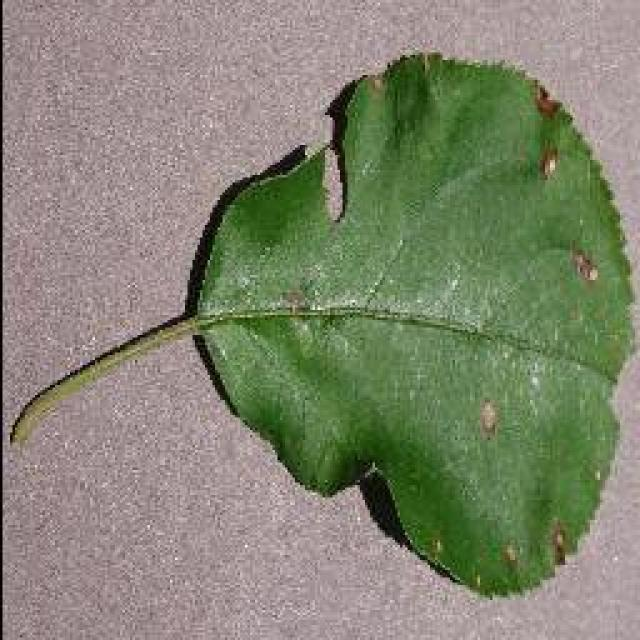Black_rot: (8, 48, 638, 600)
